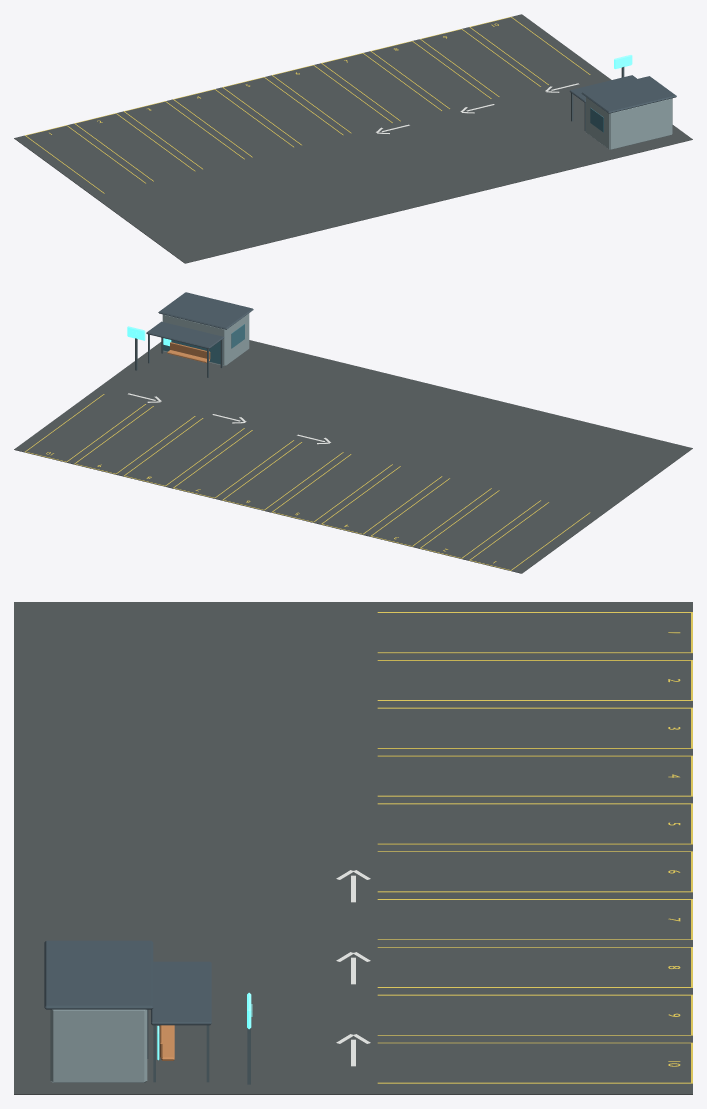
Rendered from bus-depot.glb.
3 renders of one model, top to bottom at view 1: azimuth 30°, elevation 25°; view 2: azimuth 150°, elevation 25°; view 3: azimuth 270°, elevation 25°, orthographic. The views are drawn at different scales.
Visible parts, largest first — view 1: Depot_Apron, Depot_Office, Depot_Shelter; view 2: Depot_Apron, Depot_Office, Depot_Shelter; view 3: Depot_Apron, Depot_Office, Depot_Shelter, Depot_Bay_09, Depot_Bay_03, Depot_Bay_04, Depot_Bay_05, Depot_Bay_02, Depot_Bay_08, Depot_Bay_00, Depot_Bay_07, Depot_Bay_01 (+1 smaller).
Boxes of the visible parts, x1,y1,x2,y2 form: Depot_Apron: [14, 14, 692, 263]; Depot_Office: [581, 76, 676, 149]; Depot_Shelter: [569, 75, 636, 131]; Depot_Apron: [14, 340, 692, 573]; Depot_Office: [158, 292, 253, 366]; Depot_Shelter: [146, 321, 224, 377]; Depot_Apron: [14, 602, 692, 1094]; Depot_Office: [44, 940, 153, 1082]; Depot_Shelter: [151, 961, 211, 1082]; Depot_Bay_09: [377, 1042, 692, 1083]; Depot_Bay_03: [377, 755, 692, 796]; Depot_Bay_04: [377, 803, 692, 844]; Depot_Bay_05: [377, 851, 692, 892]; Depot_Bay_02: [377, 707, 692, 748]; Depot_Bay_08: [377, 994, 692, 1035]; Depot_Bay_00: [377, 612, 692, 653]; Depot_Bay_07: [377, 947, 692, 987]; Depot_Bay_01: [377, 660, 692, 700].
Size of the model in its own units: 48 by 3.82 by 28.
